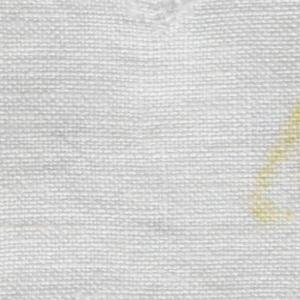Stain: (243, 98, 300, 228)
